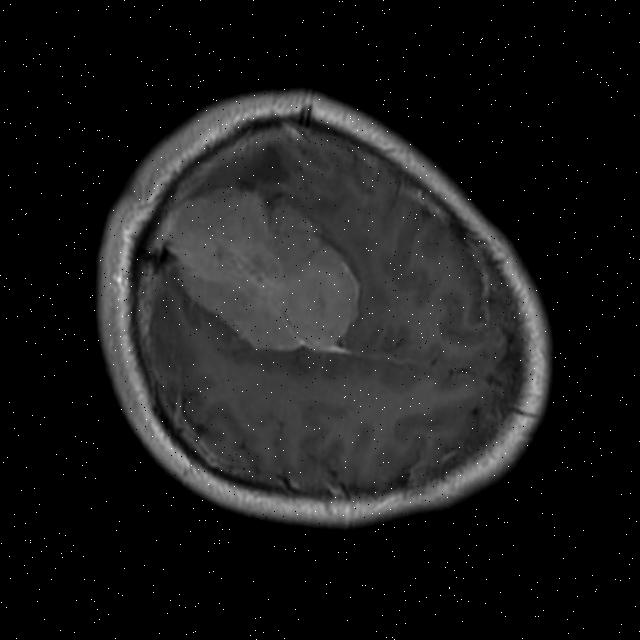Meningioma: (143, 171, 384, 377)
